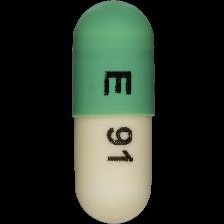35356-728: (0, 0, 224, 224)
